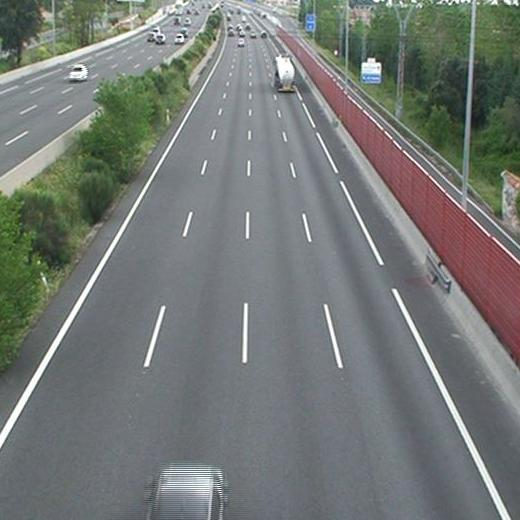car: (237, 37, 245, 46)
tank-truck: (273, 54, 295, 92)
